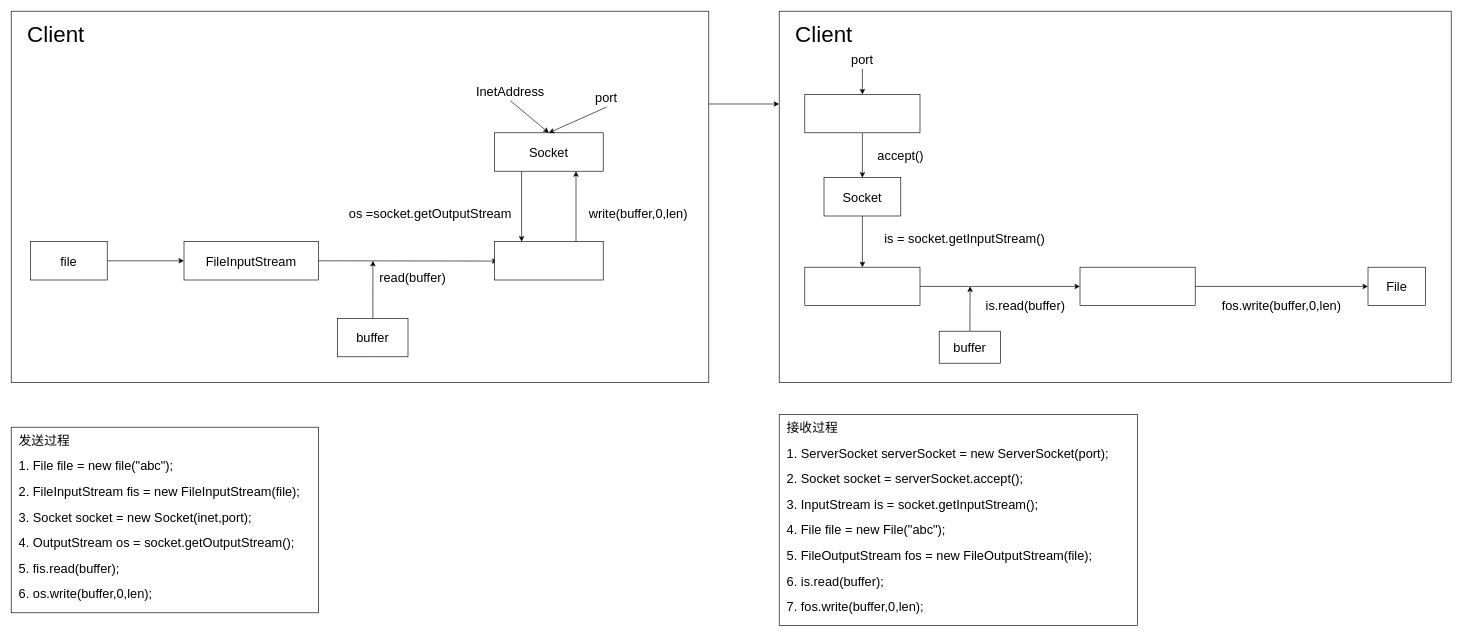
The diagram is 1462 pixels wide and 637 high, and some of its shapes have lost their labels. The shapes that lost their labels are listed below. From the top down, each one's centre as x and y in pixels, then its label:
At point 862,113: "ServerSocket".
At point 548,260: "OutputStream".
At point 862,286: "InputStream".
At point 1137,286: "FileOutputStream".
